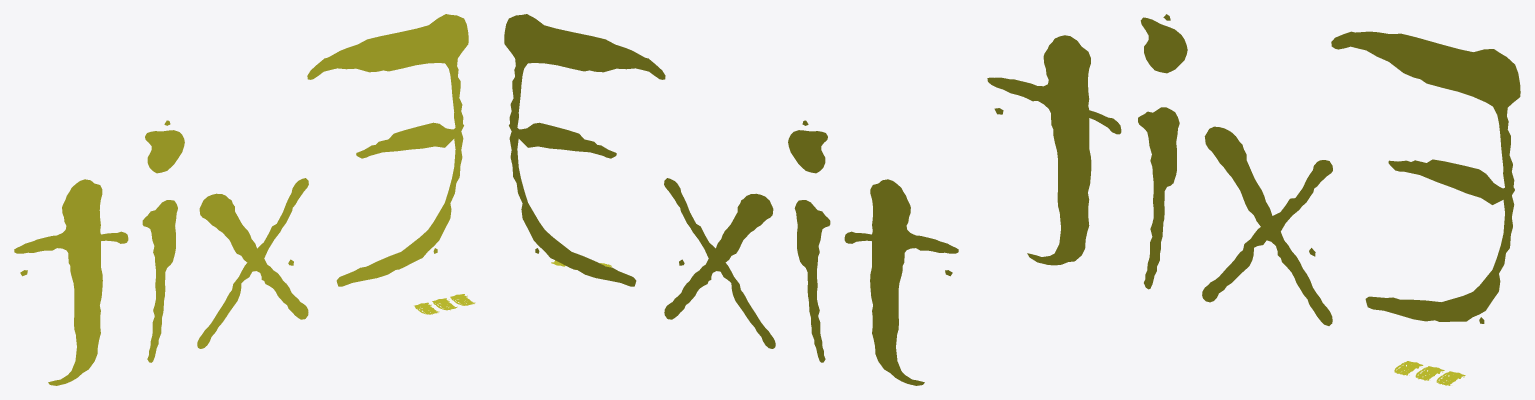
File: ExitGameOverButtonText.obj
3 renders of one model, left to right at view 1: azimuth 30°, elevation 25°; view 2: azimuth 150°, elevation 25°; view 3: azimuth 330°, elevation 25°, orthographic. The views are drawn at different scales.
Parts seen in each view (by area): view 1: ExitGameOverButtonText; view 2: ExitGameOverButtonText; view 3: ExitGameOverButtonText.
Boxes of the visible parts, box(x1,y1,x2,y2) form: ExitGameOverButtonText: box(14, 14, 468, 385); ExitGameOverButtonText: box(504, 14, 958, 385); ExitGameOverButtonText: box(987, 14, 1520, 325).
Bounding box in the file's own units: 1 × 0.5844 × 0.1315.
